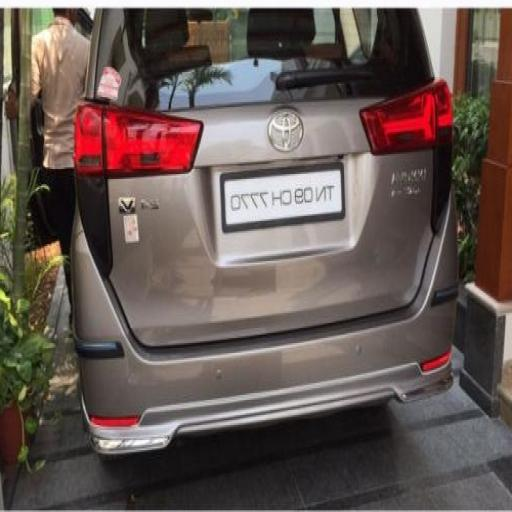License: (225, 168, 343, 222)
